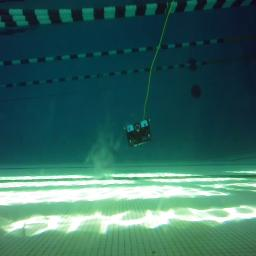front: (124, 118, 152, 146)
